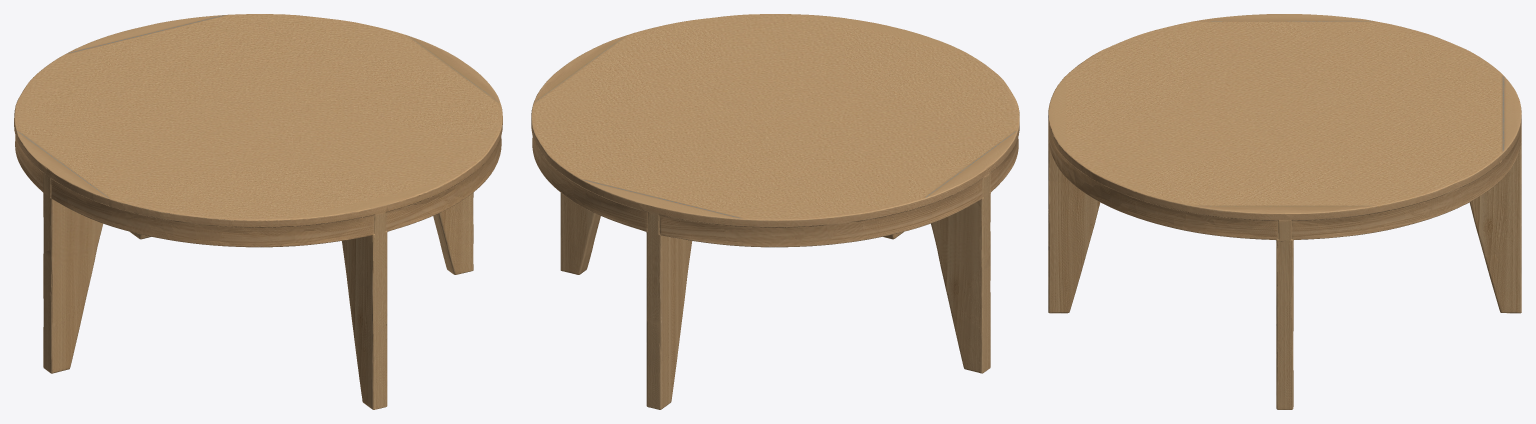
3 views of the same model, side by side, from view 1: azimuth 30°, elevation 25°; view 2: azimuth 150°, elevation 25°; view 3: azimuth 270°, elevation 25° (orthographic). The views are drawn at different scales.
Size of the model in its own units: 1.9 by 0.8716 by 1.9.
1 material, 1 textured.
